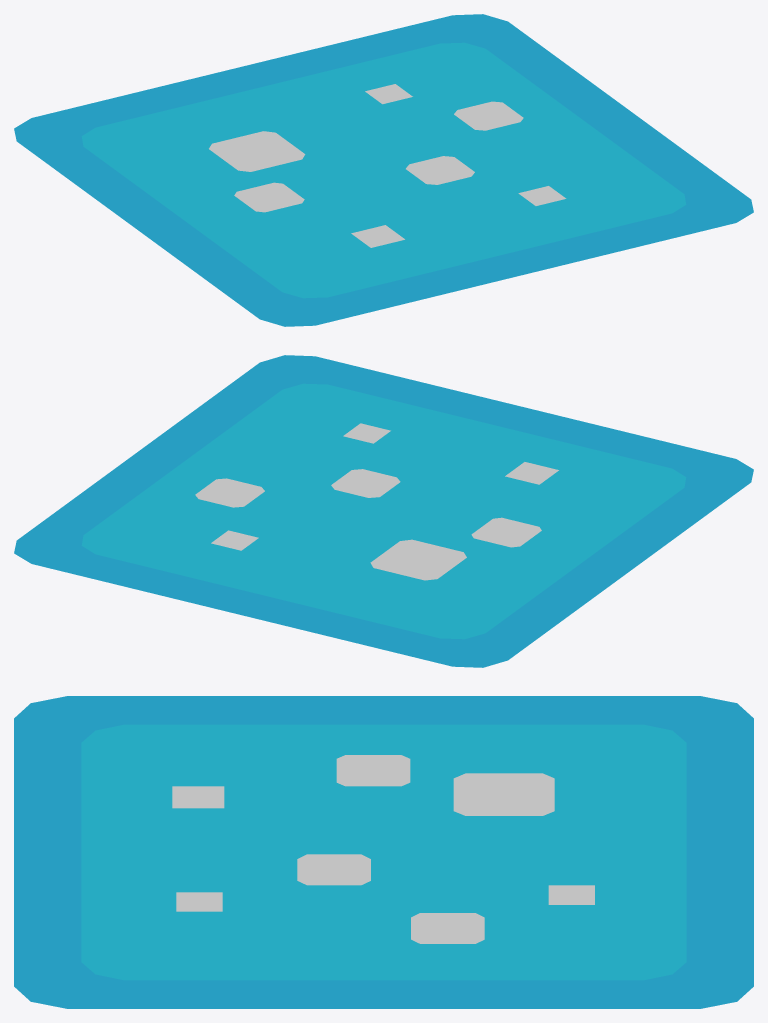
Rendered from BC_cookrecipe_02.fbx.
3 views of the same model, one above another, from view 1: azimuth 30°, elevation 25°; view 2: azimuth 150°, elevation 25°; view 3: azimuth 270°, elevation 25° (orthographic). The views are drawn at different scales.
Parts seen in each view (by area): view 1: base, boko, boko4, boko2, boko1, boko3, boko5, boko6; view 2: base, boko, boko4, boko2, boko1, boko3, boko5, boko6; view 3: base, boko, boko4, boko1, boko2, boko3, boko5, boko6.
Boxes of the visible parts, x1,y1,x2,y2 form: base: [14, 14, 753, 326]; boko: [209, 131, 305, 171]; boko4: [234, 182, 304, 212]; boko2: [454, 101, 523, 130]; boko1: [406, 156, 474, 184]; boko3: [351, 225, 404, 247]; boko5: [365, 84, 412, 104]; boko6: [518, 186, 566, 205]; base: [14, 355, 753, 667]; boko: [370, 539, 466, 580]; boko4: [471, 517, 541, 547]; boko2: [195, 478, 264, 507]; boko1: [331, 469, 400, 497]; boko3: [505, 462, 558, 484]; boko5: [211, 530, 258, 550]; boko6: [343, 423, 390, 443]; base: [14, 696, 753, 1008]; boko: [453, 773, 554, 815]; boko4: [336, 755, 410, 786]; boko1: [297, 854, 370, 885]; boko2: [411, 913, 484, 943]; boko3: [172, 786, 224, 808]; boko5: [548, 885, 594, 904]; boko6: [176, 892, 222, 911].
Size of the model in its own units: 3.5 by 0.033 by 3.5.
